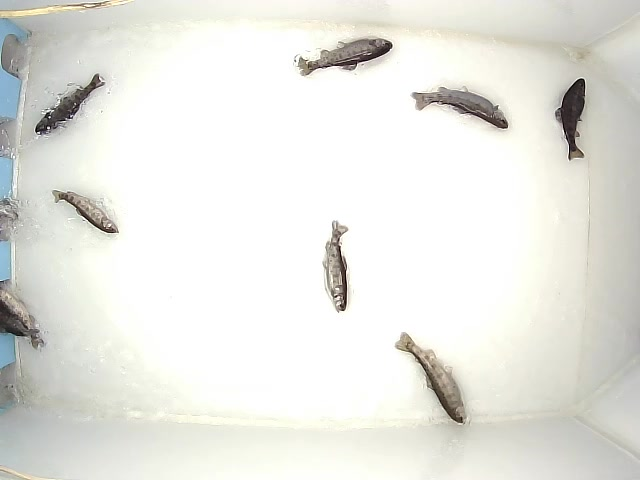fish: (393, 331, 468, 425), (34, 72, 106, 136), (408, 85, 508, 130), (296, 37, 394, 76), (50, 188, 120, 235), (321, 219, 350, 314), (554, 77, 586, 162)
